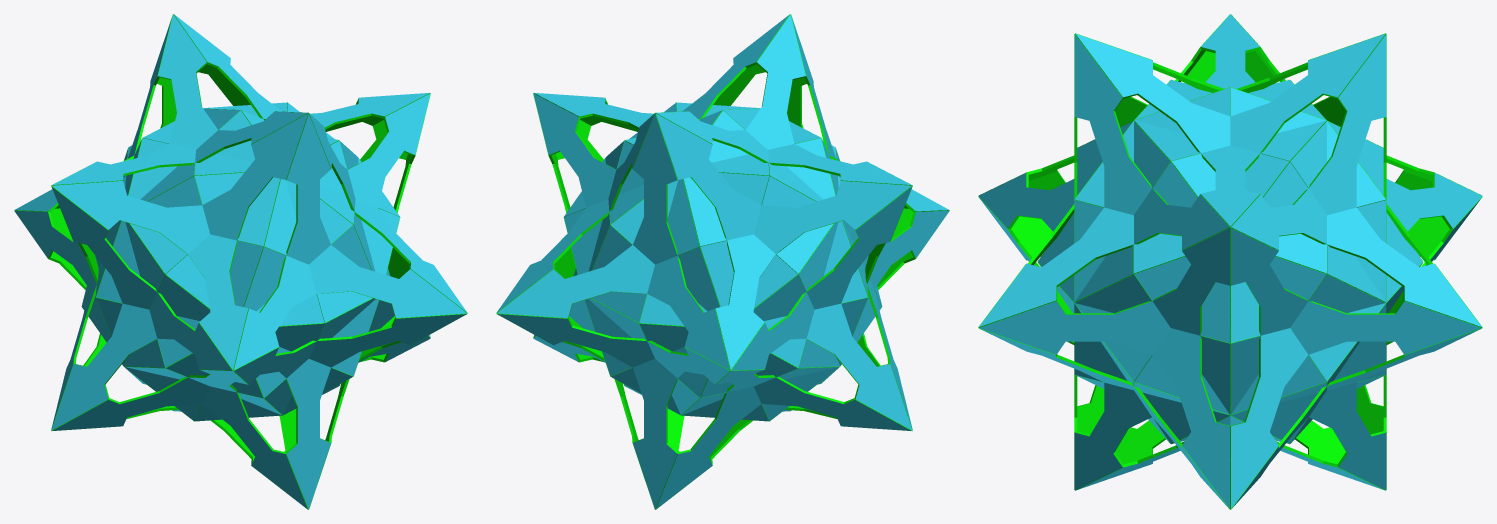
File: MedialRhombicTriacontahedronS.glb
3 views of the same model, side by side, from view 1: azimuth 30°, elevation 25°; view 2: azimuth 150°, elevation 25°; view 3: azimuth 270°, elevation 25° (orthographic). The views are drawn at different scales.
Visible parts, largest first — view 1: Mesh_0001_1, Mesh_0001; view 2: Mesh_0001_1, Mesh_0001; view 3: Mesh_0001_1, Mesh_0001.
Boxes of the visible parts, <box> form: Mesh_0001_1: <box>14,14,467,509</box>; Mesh_0001: <box>14,14,467,509</box>; Mesh_0001_1: <box>496,14,949,509</box>; Mesh_0001: <box>496,14,949,509</box>; Mesh_0001_1: <box>978,14,1482,508</box>; Mesh_0001: <box>978,14,1482,509</box>.
Size of the model in its own units: 8.5 by 8.5 by 8.5.
